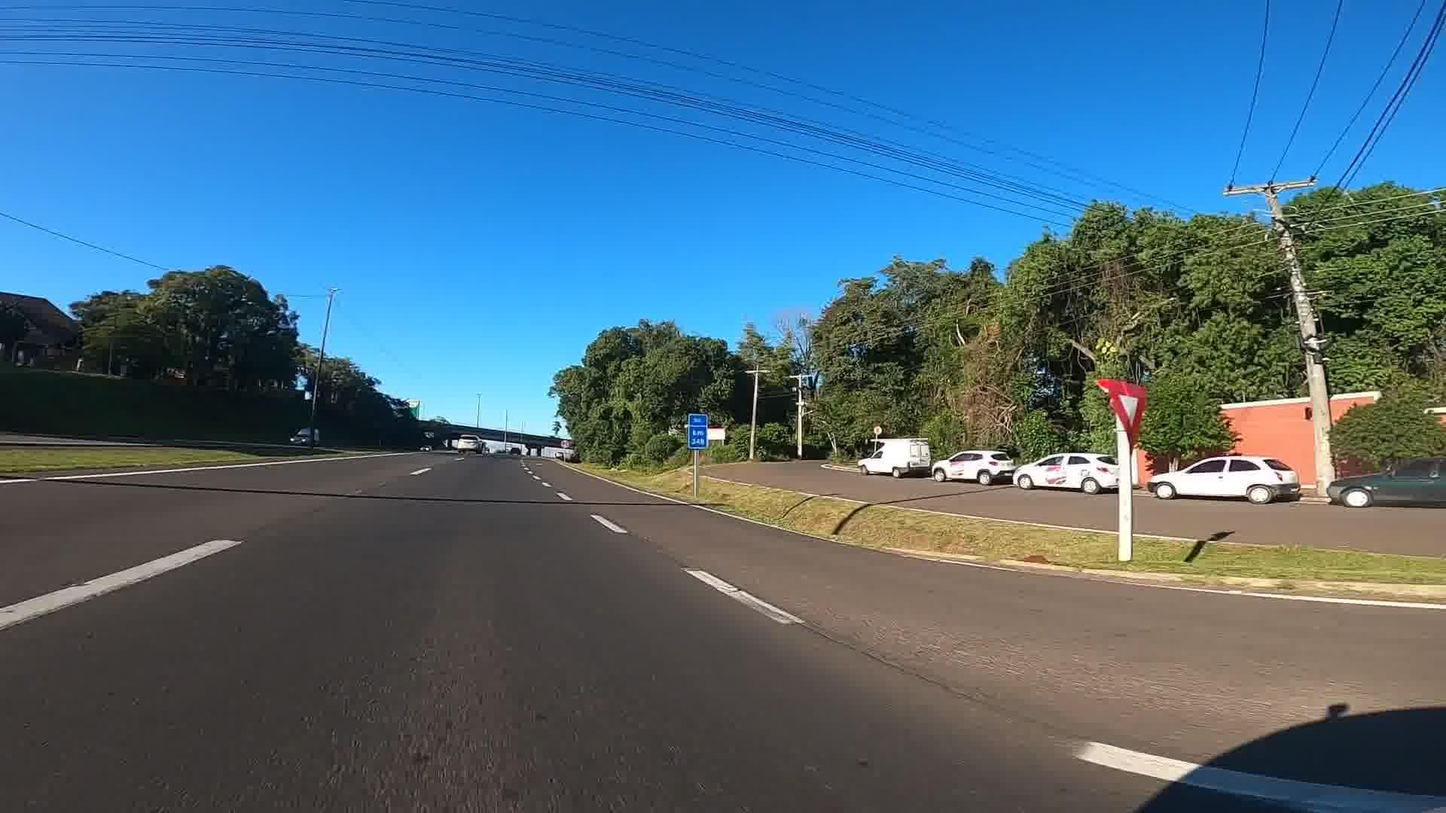R-2: (1095, 378, 1149, 452)
